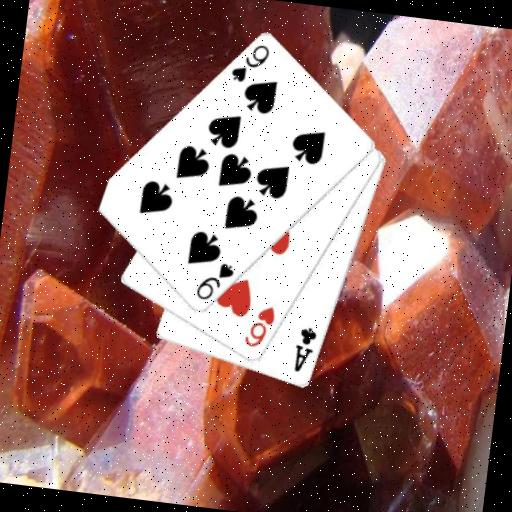6H: (240, 301, 278, 352)
9S: (227, 38, 272, 88), (192, 257, 237, 306)
AC: (290, 323, 320, 376)
